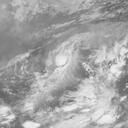cyclone: (53, 49, 71, 71)
